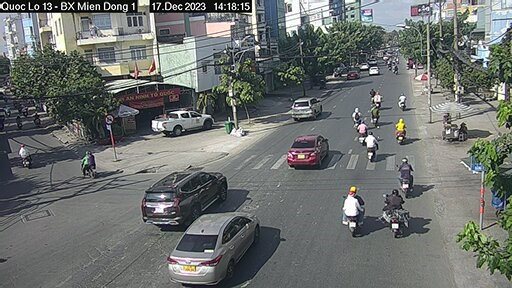car: (182, 218, 253, 283), (150, 166, 226, 214), (154, 103, 217, 137), (287, 135, 329, 173), (292, 98, 327, 122), (346, 72, 361, 82), (368, 67, 381, 75)
motorbike: (381, 197, 414, 240), (340, 190, 364, 233), (398, 164, 417, 195), (78, 153, 99, 181), (18, 143, 34, 170), (366, 133, 382, 160), (397, 120, 413, 147), (353, 106, 362, 128)
